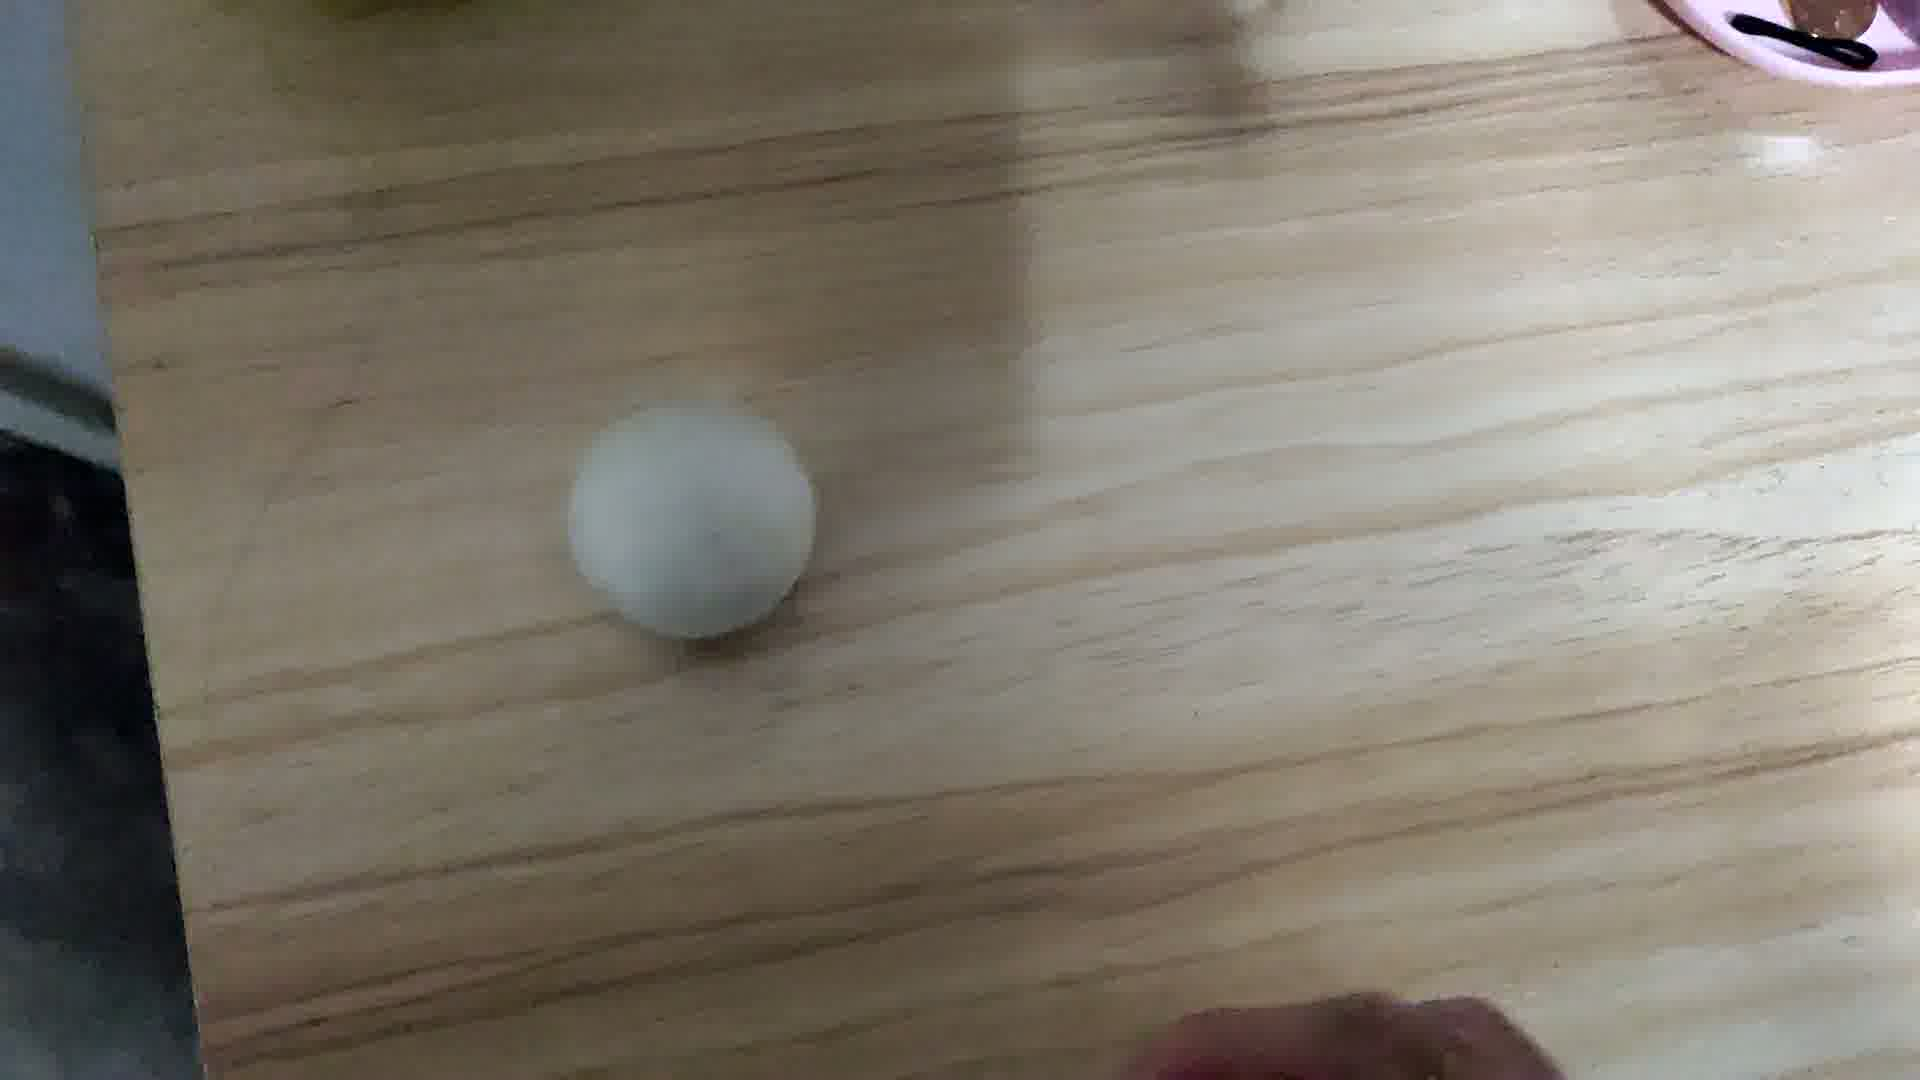Ball: (567, 398, 820, 645)
